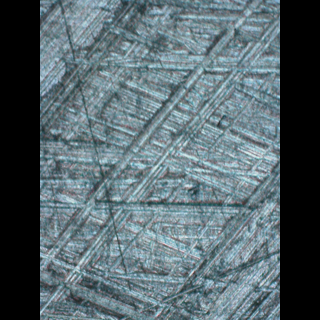d: (50, 29, 269, 284)
